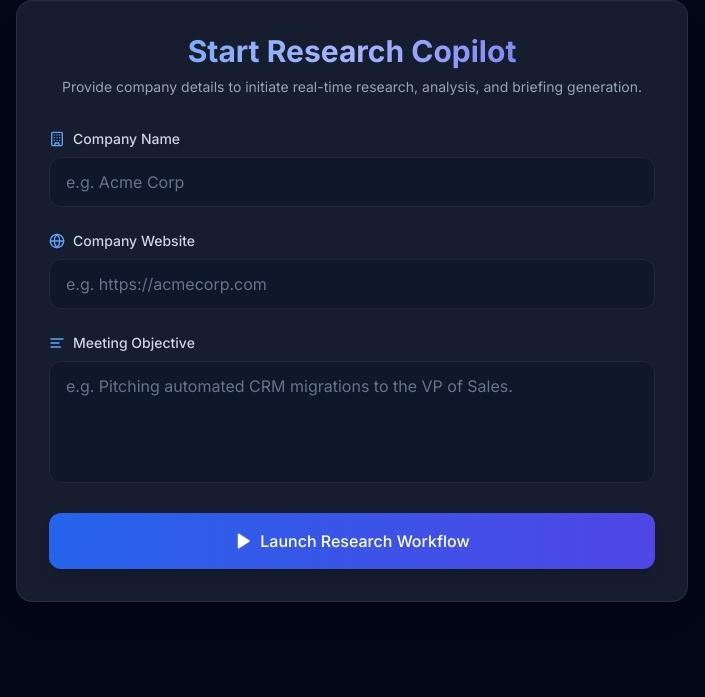
SessionCreate Component › shows validation error if company name is empty
The image size is (705, 697).
Step 1. Click the button "Launch Research Workflow" → (352, 541), box [49,513,655,569]
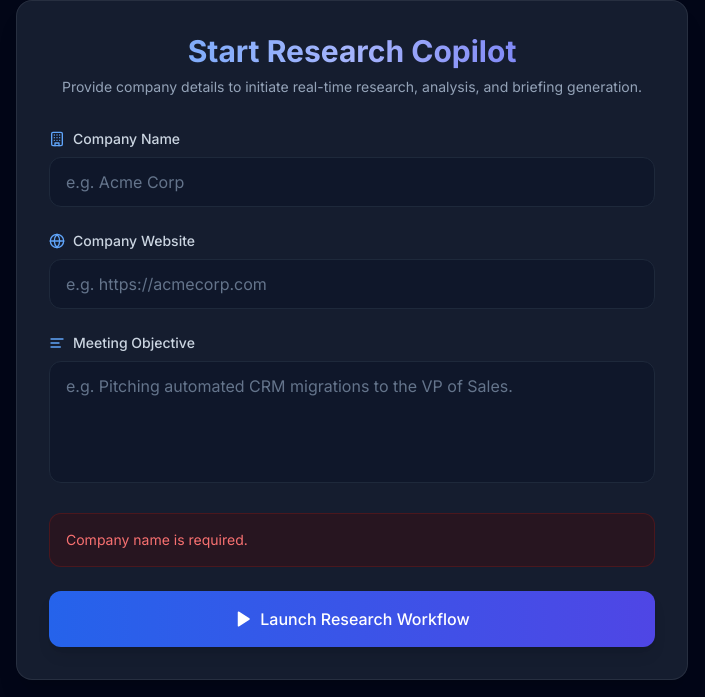
Expected: the text "Company name is required." is shown, [49,513,655,567]
